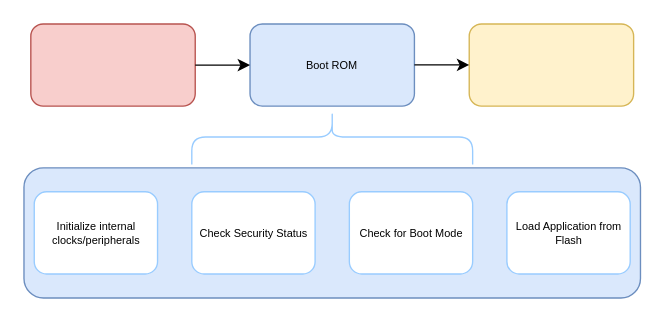
This 664x322 diagram has some shape labels left out. The shapes that lost their labels are listed below. From the top down, each one's box as (x1, y1, x2, y2) in pixels, then its label:
(29, 23, 195, 106): Power On
(468, 23, 634, 106): Main Application
